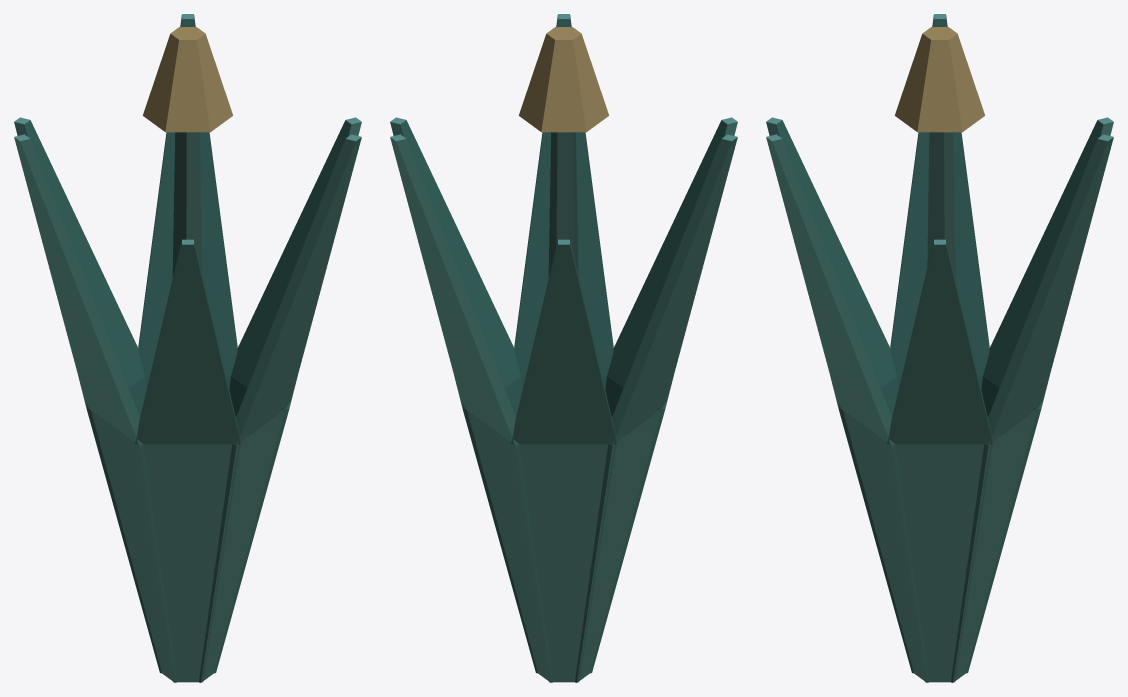
The model's file is flora_rosette.glb.
3 views of the same model, side by side, from view 1: azimuth 30°, elevation 25°; view 2: azimuth 150°, elevation 25°; view 3: azimuth 270°, elevation 25° (orthographic).
Parts seen in each view (by area): view 1: flora_rosette; view 2: flora_rosette; view 3: flora_rosette.
Part boxes in pixels (left/top/right/bottom): flora_rosette: left=14, top=14, right=361, bottom=682; flora_rosette: left=390, top=14, right=737, bottom=682; flora_rosette: left=766, top=14, right=1113, bottom=682.
Size of the model in its own units: 0.784 by 1.4 by 0.691.
